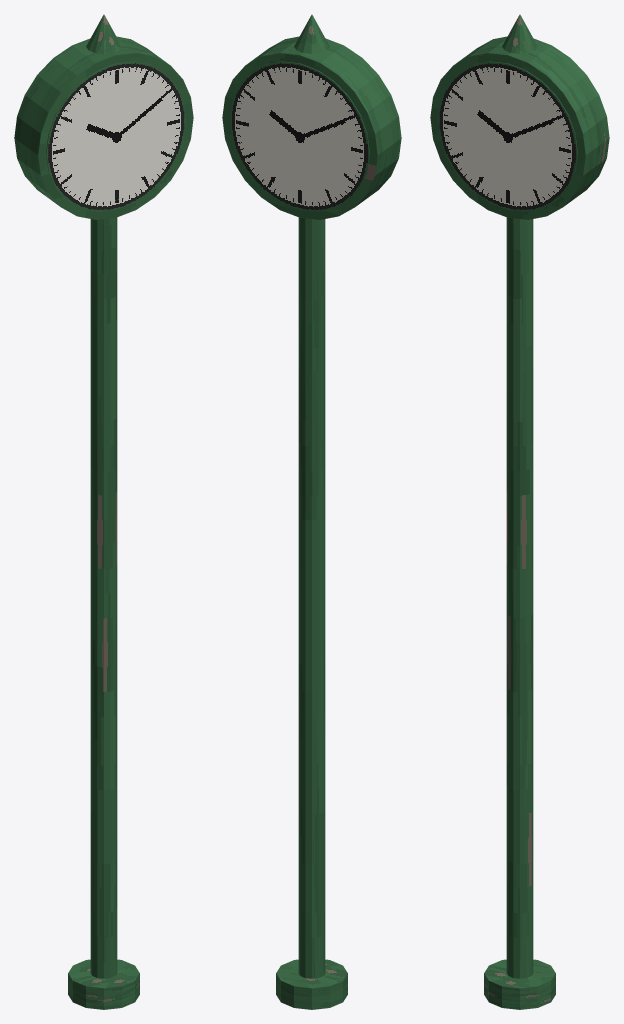
File: park_clock.glb
The picture shows the model from 3 angles, left to right: view 1: azimuth 30°, elevation 25°; view 2: azimuth 150°, elevation 25°; view 3: azimuth 330°, elevation 25°; orthographic projection.
Visible parts, largest first — view 1: Cylinder; view 2: Cylinder; view 3: Cylinder.
Boxes of the visible parts, bbox=[...] form: Cylinder: bbox=[14, 14, 193, 1009]; Cylinder: bbox=[222, 14, 401, 1009]; Cylinder: bbox=[430, 14, 609, 1009].
Size of the model in its own units: 0.6 by 3.62 by 0.24.
Materials: 2 (2 with a texture image).
